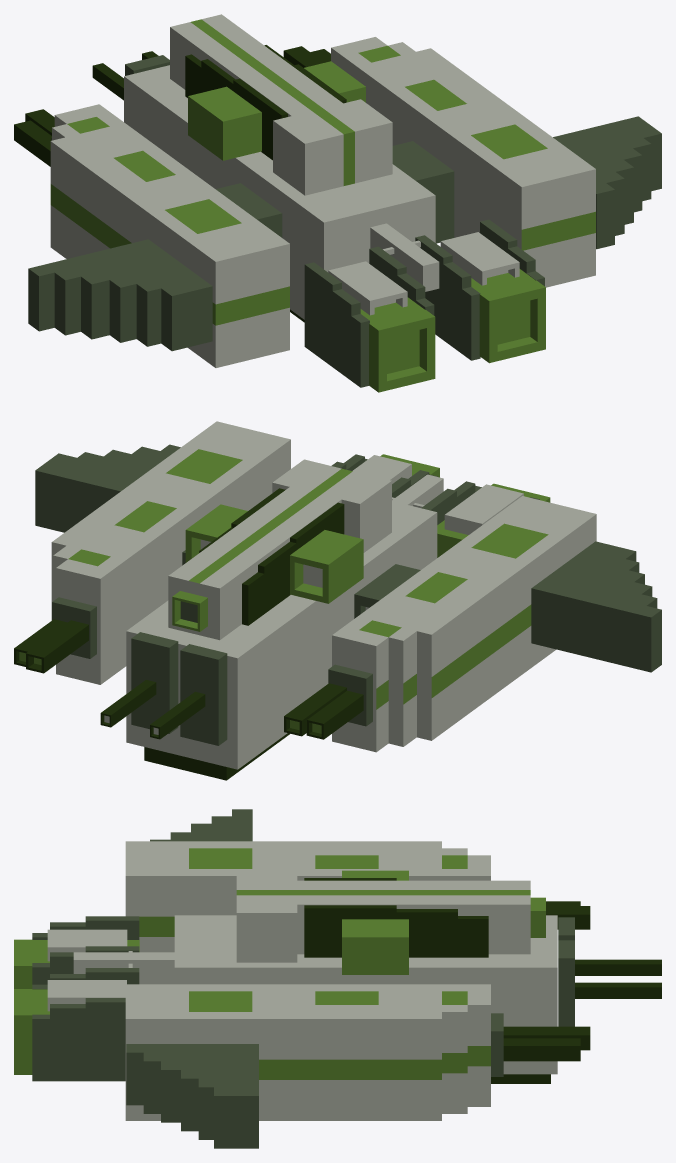
Rendered from Tank_shooter_green_spaceship.fbx.
The picture shows the model from 3 angles, top to bottom: view 1: azimuth 30°, elevation 25°; view 2: azimuth 150°, elevation 25°; view 3: azimuth 270°, elevation 25°; orthographic projection. The views are drawn at different scales.
Parts seen in each view (by area): view 1: polySurface178; view 2: polySurface178; view 3: polySurface178.
Part boxes in pixels (x1,y1,x2,y2): polySurface178: (14,14,661,392); polySurface178: (14,421,661,780); polySurface178: (14,809,661,1148).
Size of the model in its own units: 145 by 40.77 by 139.
